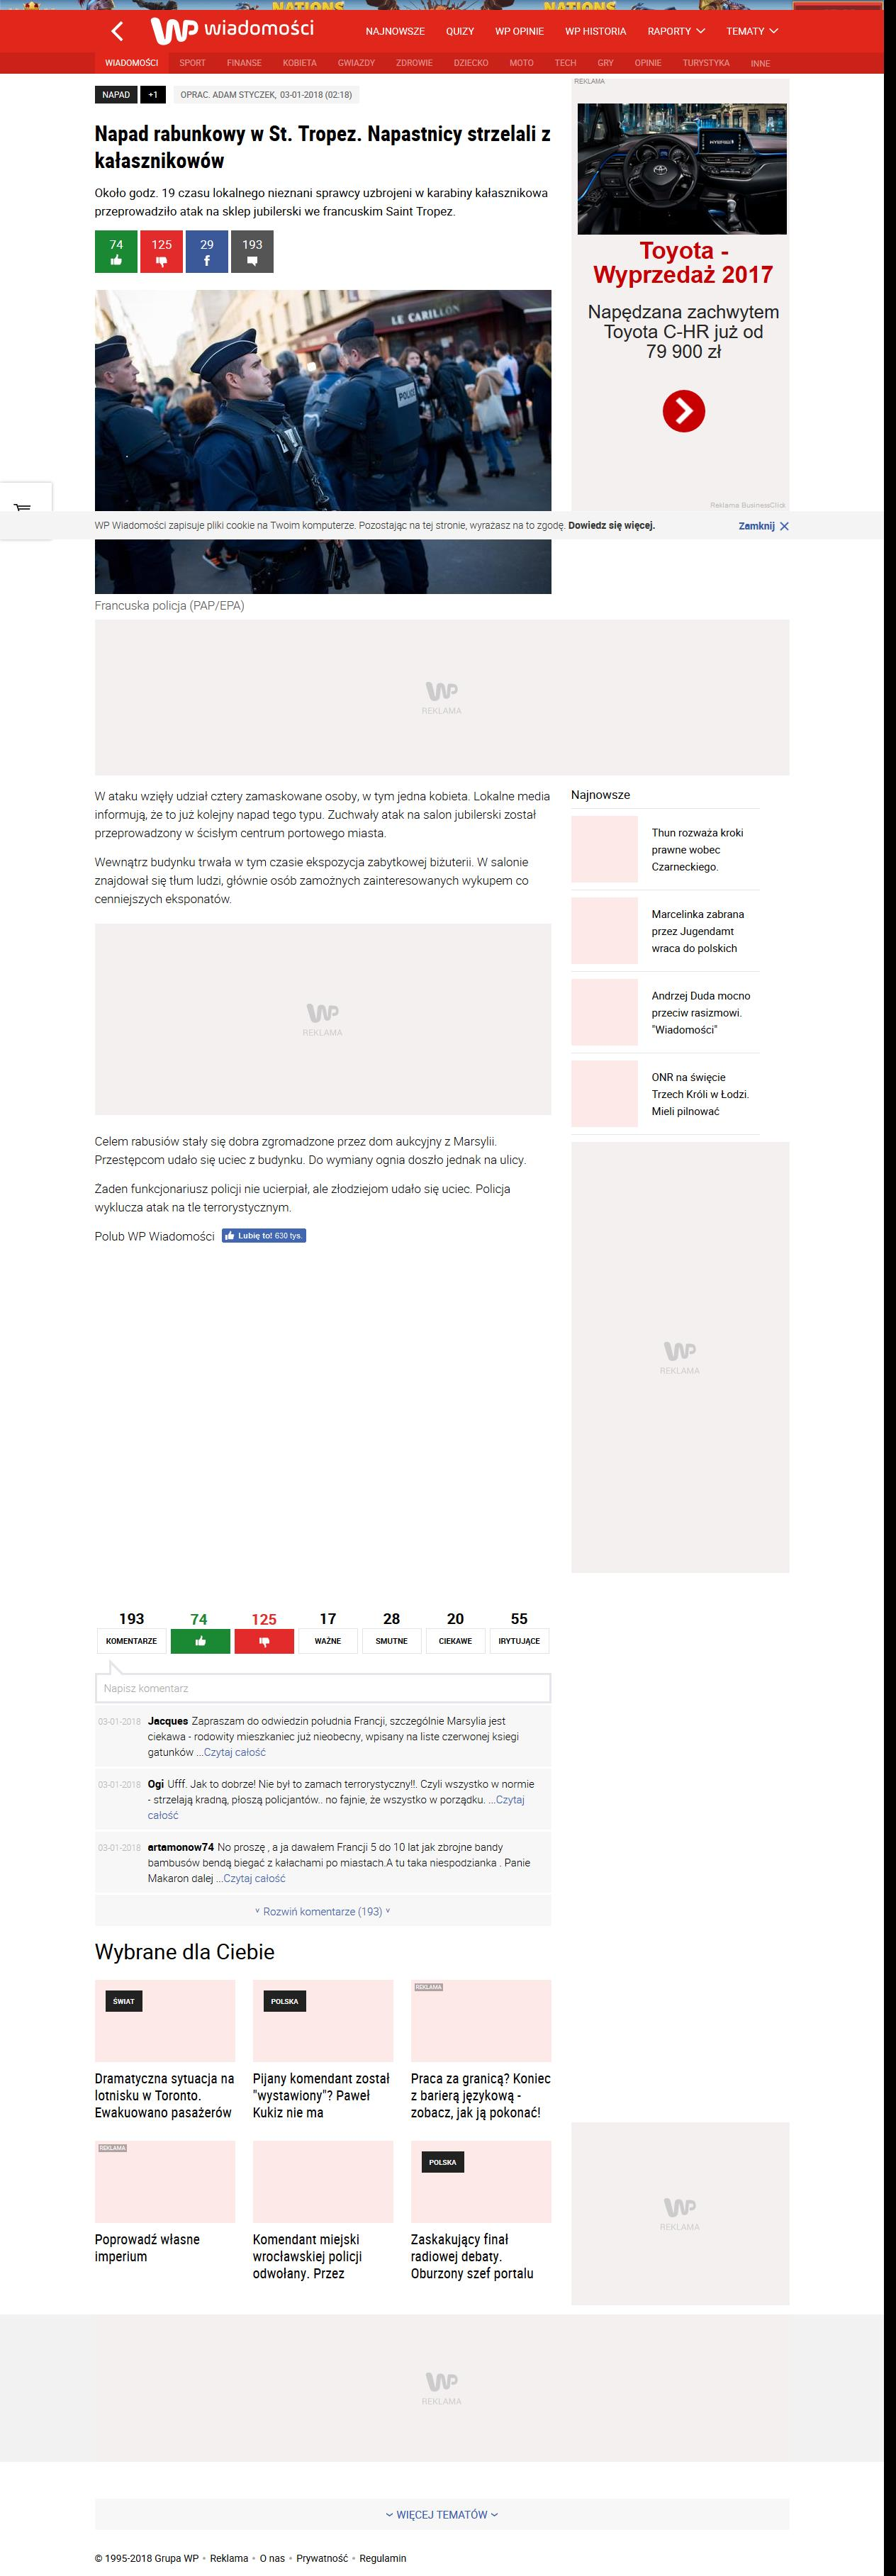title: (94, 125, 552, 171)
